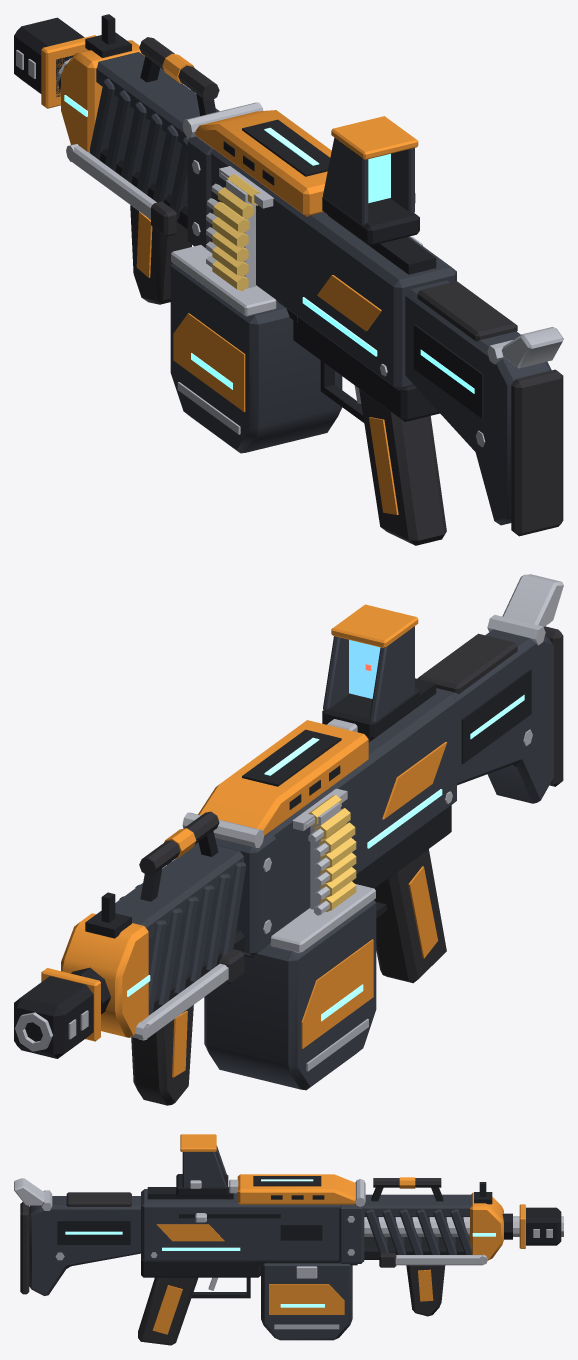
The model's file is TitanLMG.glb.
3 renders of one model, top to bottom at view 1: azimuth 30°, elevation 25°; view 2: azimuth 150°, elevation 25°; view 3: azimuth 270°, elevation 25°, orthographic. The views are drawn at different scales.
Parts seen in each view (by area): view 1: Receiver, AmmoBox, Stock, ButtPad, Grip, FeedCover, ShroudTop, LowerHousing, AmmoBand, Nose, CheekRest, StockInset-1 (+29 smaller); view 2: AmmoBox, Receiver, Stock, FeedCover, Nose, Grip, ShroudTop, Brake, AmmoBand, Trunnion, Foregrip, StockInset-1 (+28 smaller); view 3: Receiver, Stock, AmmoBox, FeedCover, Grip, AmmoBand, ShroudTop, LowerHousing, Nose, StockInset1, Trunnion, SightWall1 (+30 smaller).
Boxes of the visible parts, left/top/right/bottom form: Receiver: left=210, top=148, right=456, bottom=390; AmmoBox: left=170, top=263, right=342, bottom=453; Stock: left=405, top=280, right=551, bottom=525; ButtPad: left=511, top=369, right=563, bottom=536; Grip: left=359, top=388, right=446, bottom=545; FeedCover: left=195, top=110, right=331, bottom=216; ShroudTop: left=96, top=52, right=219, bottom=144; LowerHousing: left=293, top=317, right=439, bottom=421; AmmoBand: left=173, top=313, right=245, bottom=411; Nose: left=61, top=40, right=144, bottom=152; CheekRest: left=417, top=281, right=517, bottom=341; StockInset-1: left=413, top=324, right=483, bottom=418; AmmoBox: left=204, top=900, right=376, bottom=1090; Receiver: left=270, top=690, right=456, bottom=932; Stock: left=436, top=629, right=553, bottom=803; FeedCover: left=198, top=720, right=368, bottom=835; Nose: left=61, top=913, right=148, bottom=1037; Grip: left=374, top=849, right=446, bottom=983; ShroudTop: left=115, top=842, right=243, bottom=939; Brake: left=14, top=976, right=93, bottom=1058; AmmoBand: left=301, top=939, right=373, bottom=1048; Trunnion: left=194, top=832, right=275, bottom=956; Foregrip: left=131, top=1005, right=193, bottom=1105; StockInset-1: left=461, top=669, right=531, bottom=763; Receiver: left=141, top=1189, right=340, bottom=1261; Stock: left=29, top=1196, right=140, bottom=1295; AmmoBox: left=261, top=1263, right=352, bottom=1340; FeedCover: left=237, top=1174, right=355, bottom=1204; Grip: left=138, top=1277, right=198, bottom=1345; AmmoBand: left=269, top=1284, right=344, bottom=1314; ShroudTop: left=364, top=1194, right=472, bottom=1216; LowerHousing: left=141, top=1259, right=260, bottom=1277; Nose: left=470, top=1192, right=503, bottom=1260; StockInset1: left=57, top=1221, right=130, bottom=1244; Trunnion: left=338, top=1204, right=364, bottom=1263; SightWall1: left=182, top=1152, right=226, bottom=1187.
Size of the model in its own units: 0.53 by 1.7 by 4.21.
